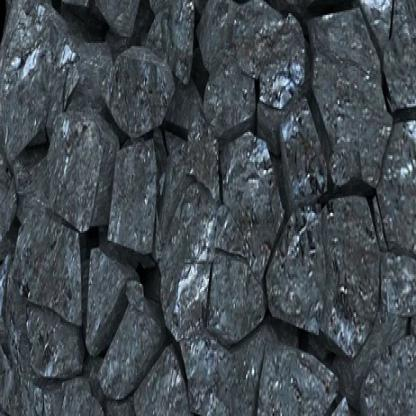Sedimentary_coal: (305, 5, 388, 195), (0, 3, 81, 165), (5, 195, 86, 332), (259, 195, 324, 337), (40, 112, 114, 230), (95, 277, 161, 403), (101, 38, 175, 145), (102, 134, 159, 266), (201, 44, 260, 154)
